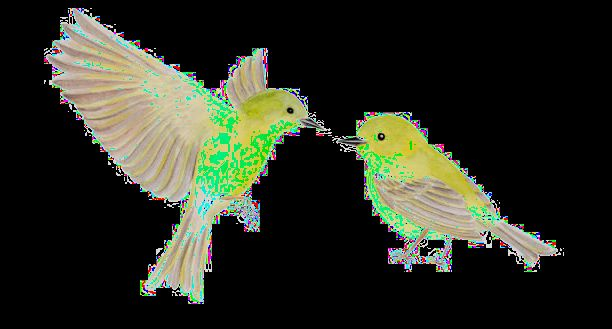Bird: (41, 6, 330, 307), (338, 108, 564, 289)
